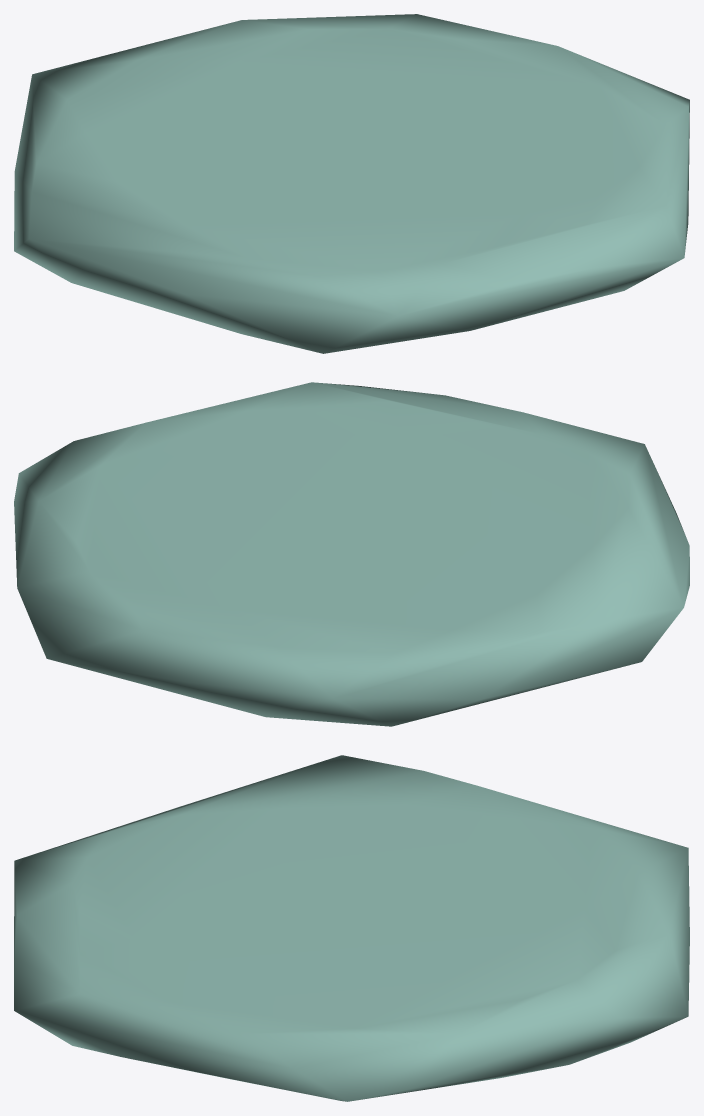
3 renders of one model, top to bottom at view 1: azimuth 30°, elevation 25°; view 2: azimuth 150°, elevation 25°; view 3: azimuth 270°, elevation 25°, orthographic.
Size of the model in its own units: 1.99 by 0.162 by 1.77.
